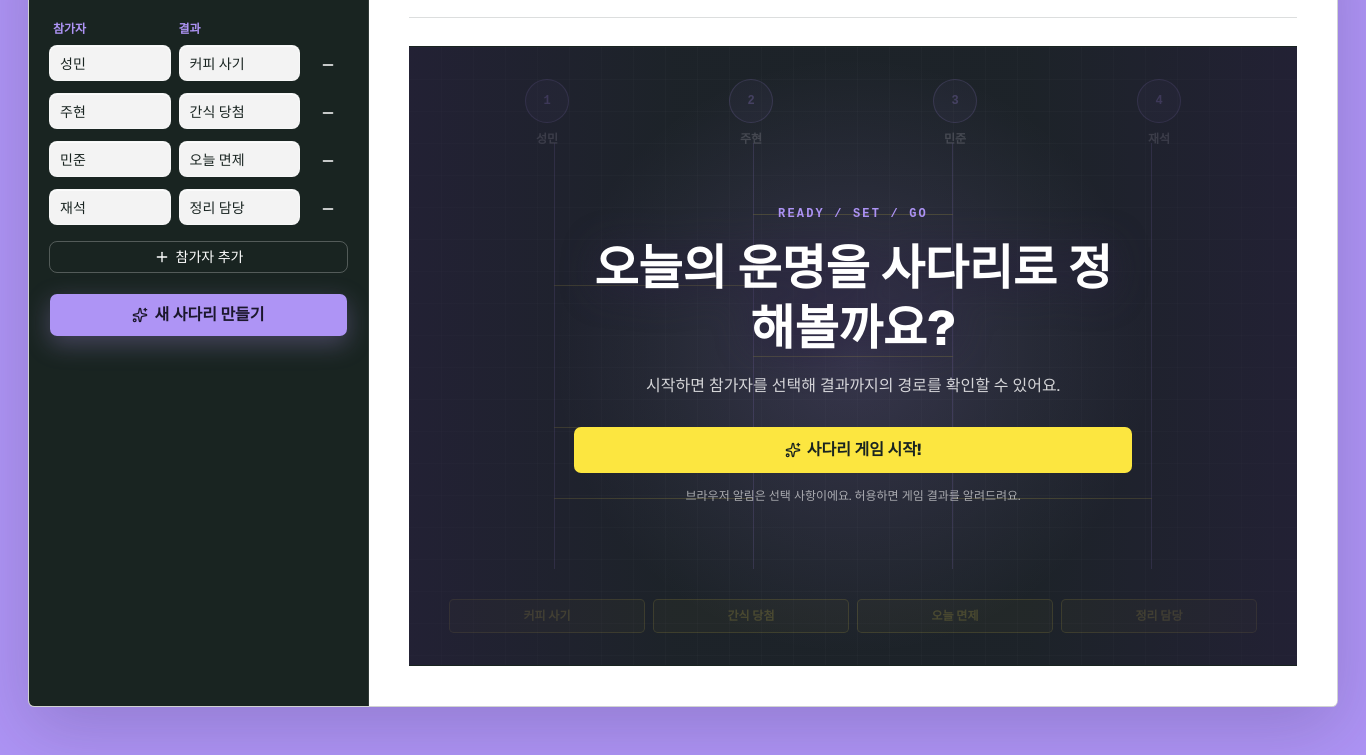
Test case: LadderGame › 참가자를 추가하고 새 사다리를 생성한다
(page scrolled)
Click the button "사다리 게임 시작!": x=853, y=450 573,426 -> 1133,474
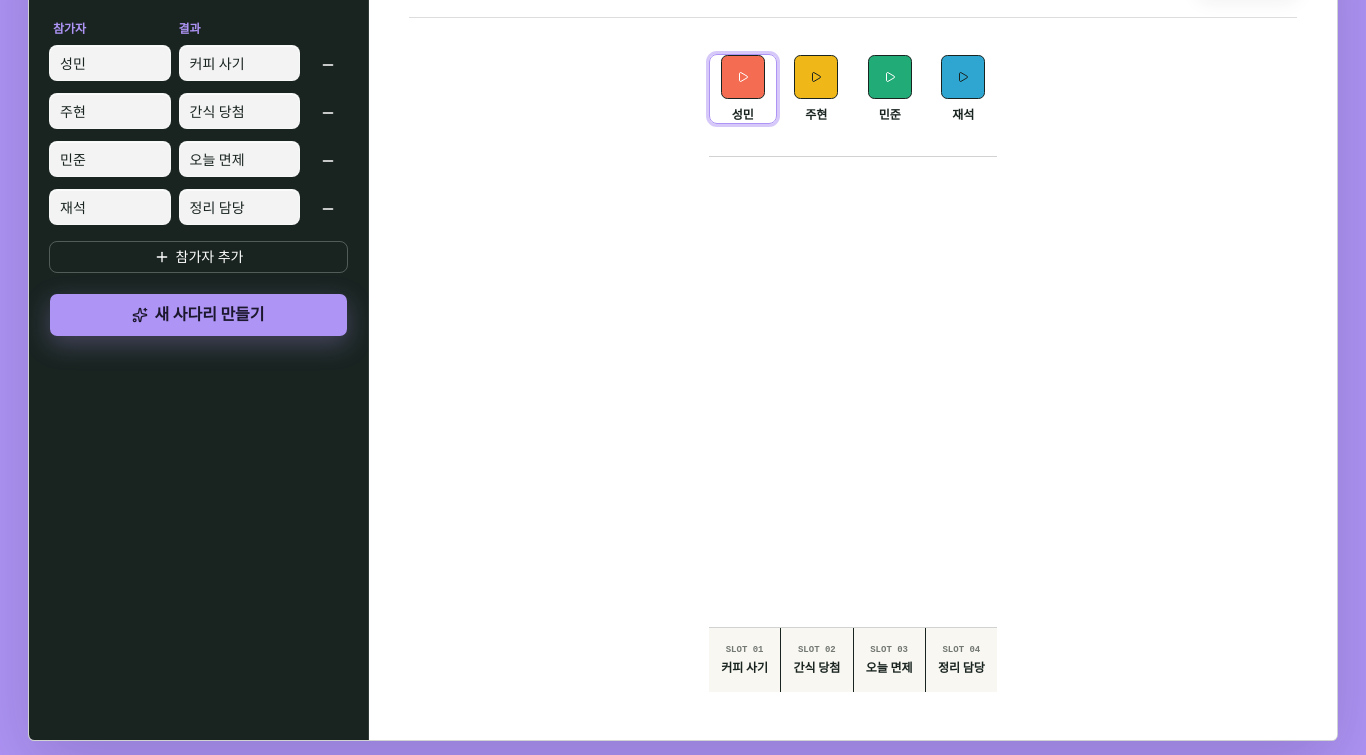
Check: the button with aria-label "성민 경로 확인" is shown, box 709,54 -> 776,124
Click the button "참가자 추가": x=198, y=257 49,241 -> 348,273
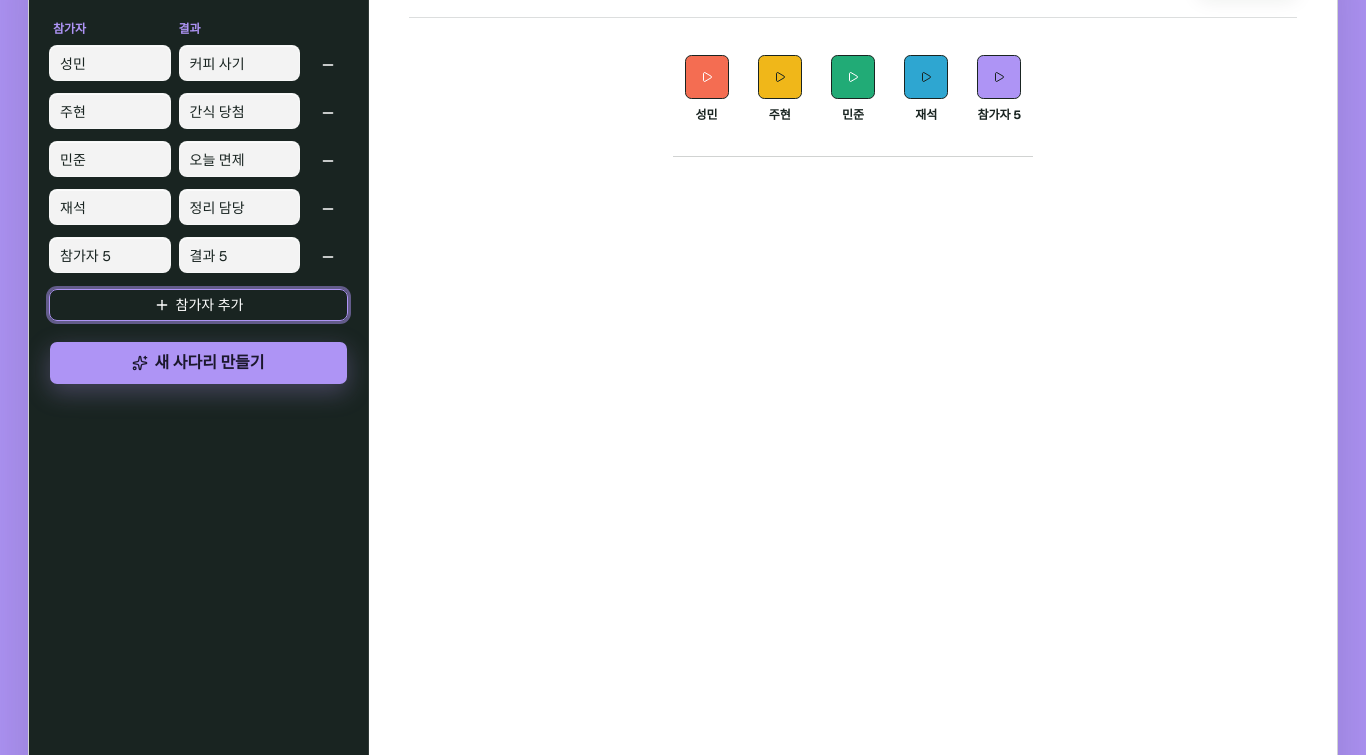
Check: the number of fields with test id "ladder-participant-input" is 5
Check: the number of fields with test id "ladder-result-input" is 5, box 178,45 -> 300,81; 178,93 -> 300,129; 178,141 -> 300,177; 178,189 -> 300,225; 178,237 -> 300,273
Check: the button with aria-label "참가자 5 경로 확인" is shown, box 966,54 -> 1033,124
Replace the text in the field with test id "ladder-participant-input" with "하늘": x=110, y=255 49,237 -> 170,273
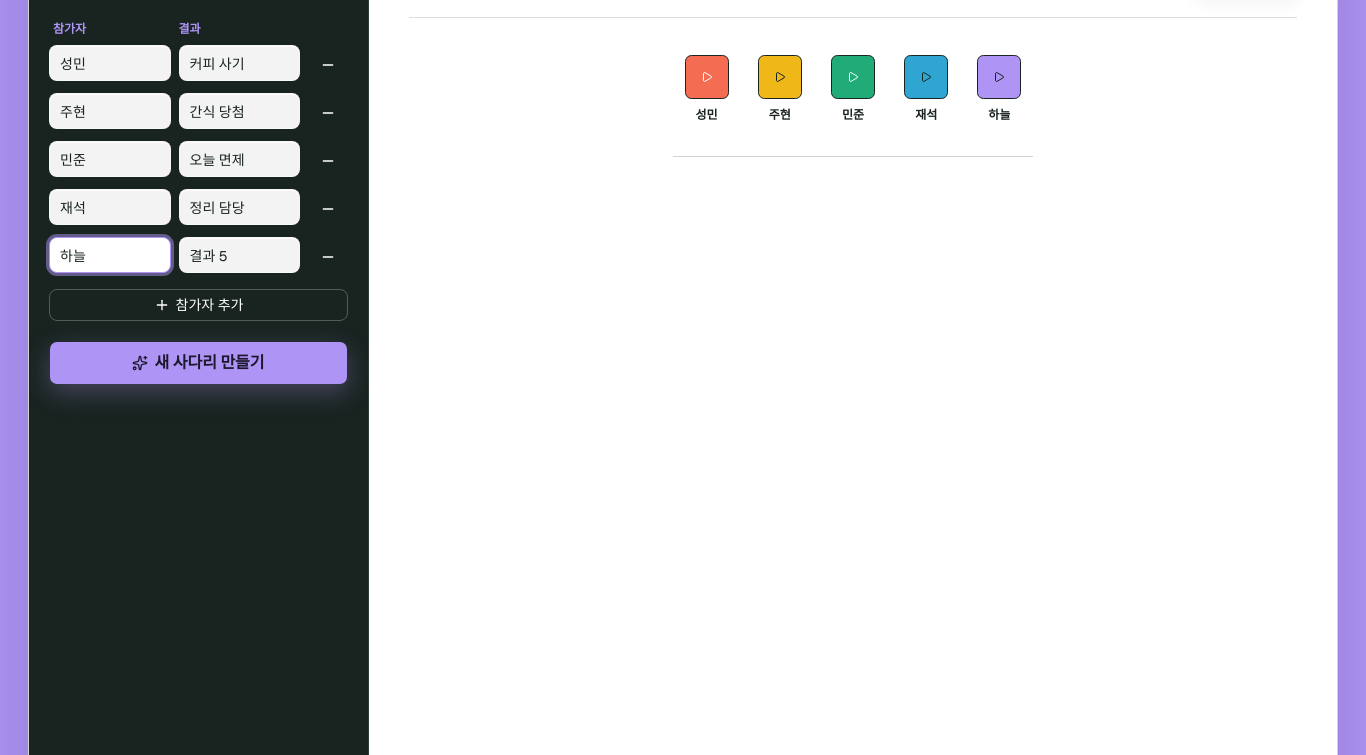
Check: the button with aria-label "하늘 경로 확인" is shown, box 966,54 -> 1033,124
